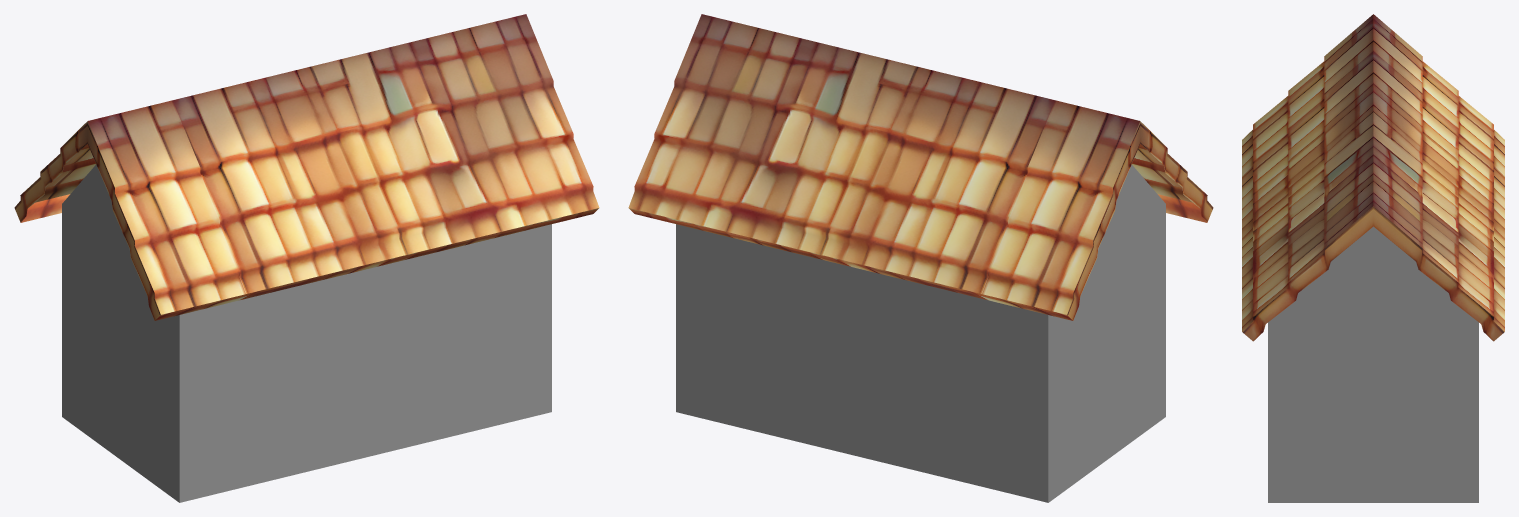
The model's file is test_house.fbx.
The picture shows the model from 3 angles, left to right: view 1: azimuth 30°, elevation 25°; view 2: azimuth 150°, elevation 25°; view 3: azimuth 270°, elevation 25°; orthographic projection. The views are drawn at different scales.
Visible parts, largest first — view 1: polySurface2; view 2: polySurface2; view 3: polySurface2.
Part boxes in pixels (x1,y1,x2,y2): polySurface2: [14, 14, 599, 502]; polySurface2: [628, 14, 1213, 502]; polySurface2: [1242, 14, 1504, 502].
Size of the model in its own units: 26.13 by 19.75 by 15.11.
2 materials, 1 textured.
